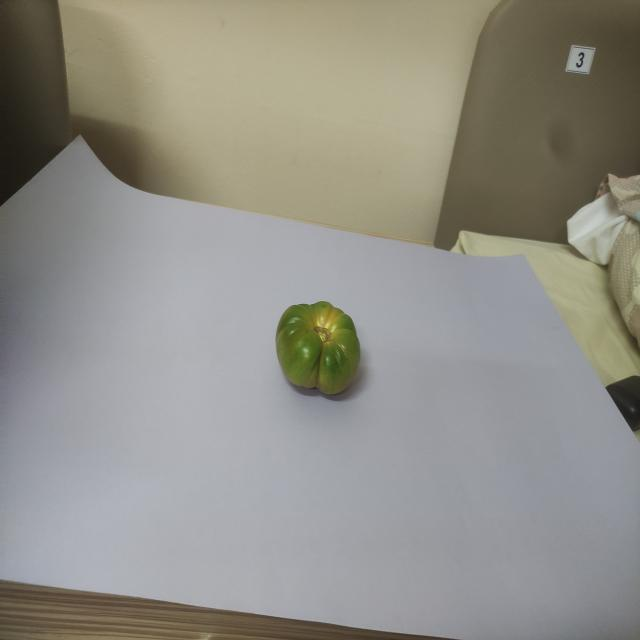yesil: (272, 286, 366, 407)
